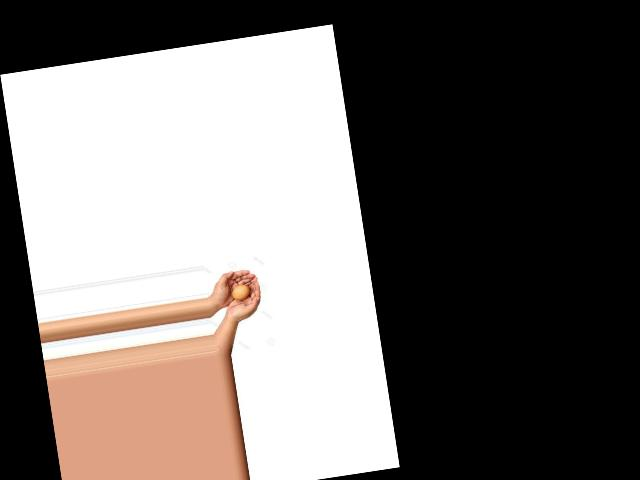egg: (231, 284, 250, 301)
